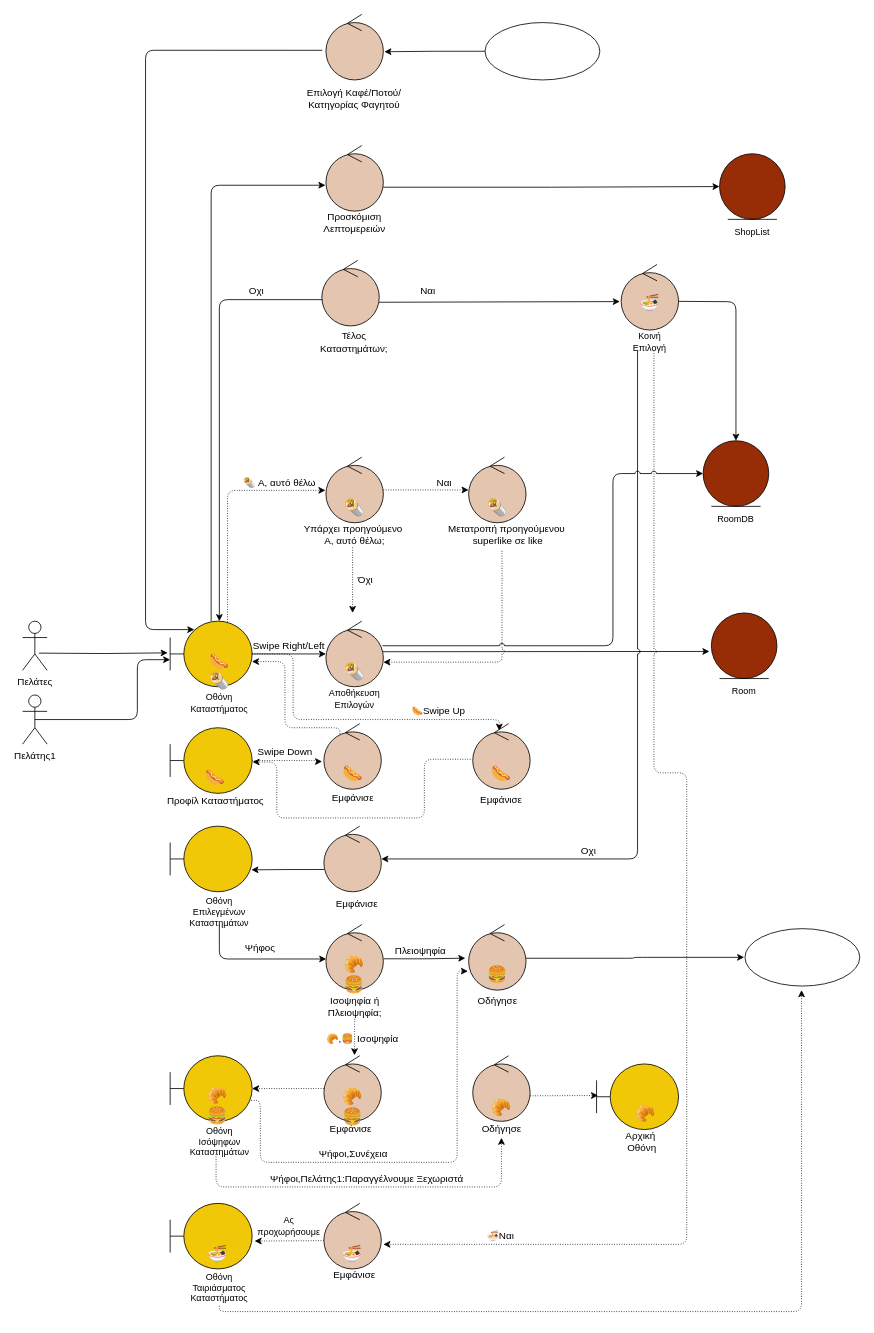
Image size: 874x1333. Some labels were removed from this diagram. Here are the shapes that lost their labels. From the top down, the box of each, then its label:
(484, 22, 600, 80): Ομαδική Επιλογή Κατηγορίας
(744, 928, 860, 986): Παραγγελία
